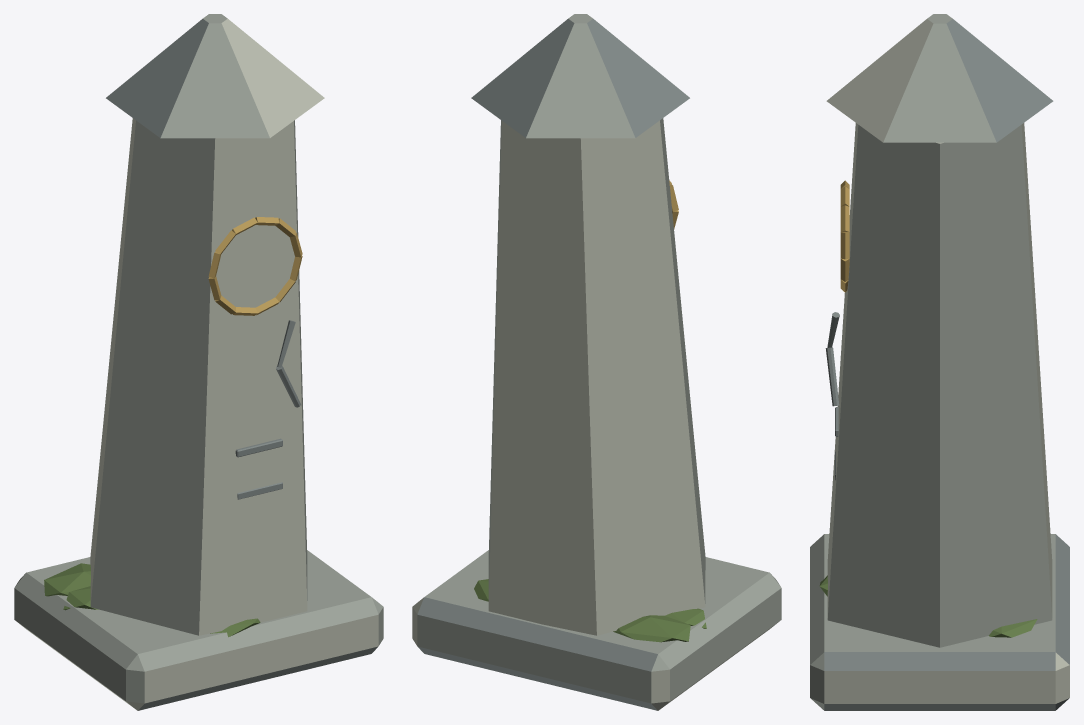
The model's file is meadow_waystone.glb.
3 renders of one model, left to right at view 1: azimuth 30°, elevation 25°; view 2: azimuth 150°, elevation 25°; view 3: azimuth 270°, elevation 25°, orthographic. The views are drawn at different scales.
Visible parts, largest first — view 1: meadow_waystone; view 2: meadow_waystone; view 3: meadow_waystone.
Boxes of the visible parts, <box> form: meadow_waystone: <box>14,14,383,710</box>; meadow_waystone: <box>412,14,781,710</box>; meadow_waystone: <box>810,14,1069,710</box>.
Size of the model in its own units: 0.95 by 2.18 by 0.8.
